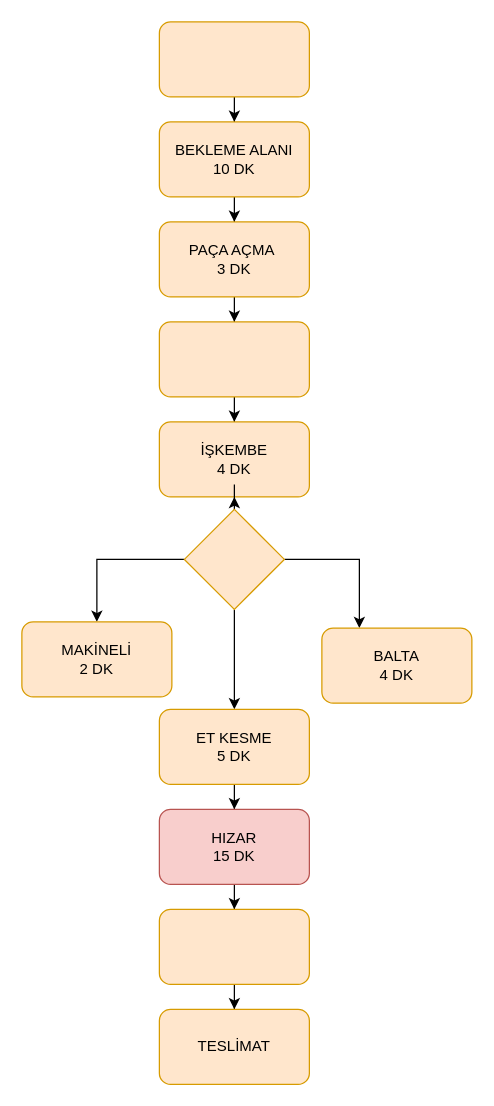
Image size: 494x1106. Some labels were removed from this diagram. The centre of each missing label's shape, as x and y in pixels:
2 YE BÖLME: the point at 233,558
DERİ YÜZME 3 DK: the point at 233,359
KESİM 4 DK: the point at 233,59
TERAZİ 10DK: the point at 233,946
